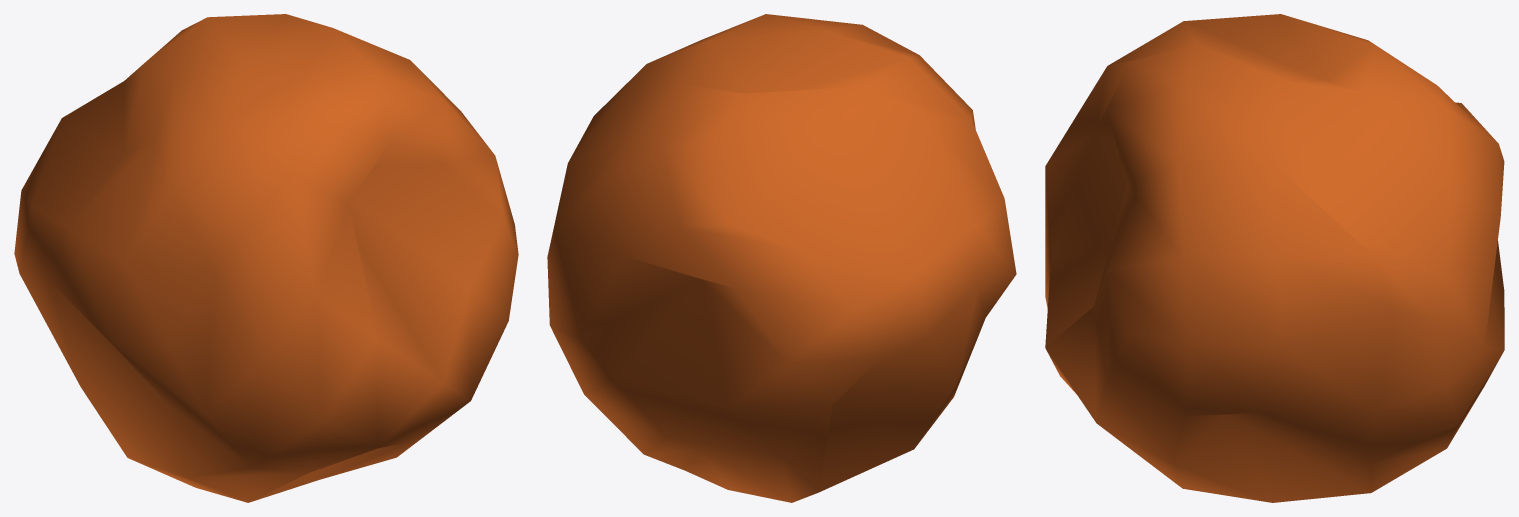
File: RonAlkonso_Ultimate.fbx
3 views of the same model, side by side, from view 1: azimuth 30°, elevation 25°; view 2: azimuth 150°, elevation 25°; view 3: azimuth 270°, elevation 25° (orthographic). The views are drawn at different scales.
Visible parts, largest first — view 1: Cube; view 2: Cube; view 3: Cube.
Boxes of the visible parts, x1=… form: Cube: x1=14, y1=14, x2=518, y2=502; Cube: x1=547, y1=14, x2=1016, y2=502; Cube: x1=1045, y1=14, x2=1504, y2=502.
Bounding box in the file's own units: 400 × 395 × 372.
